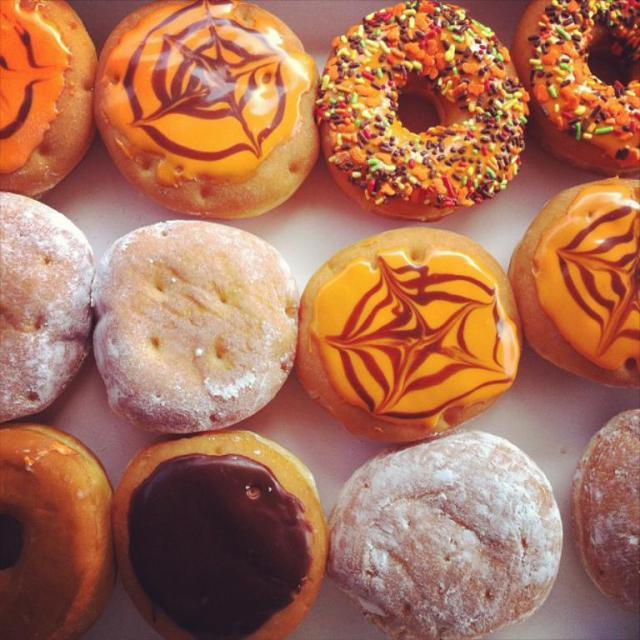Bagel: (91, 218, 300, 432)
